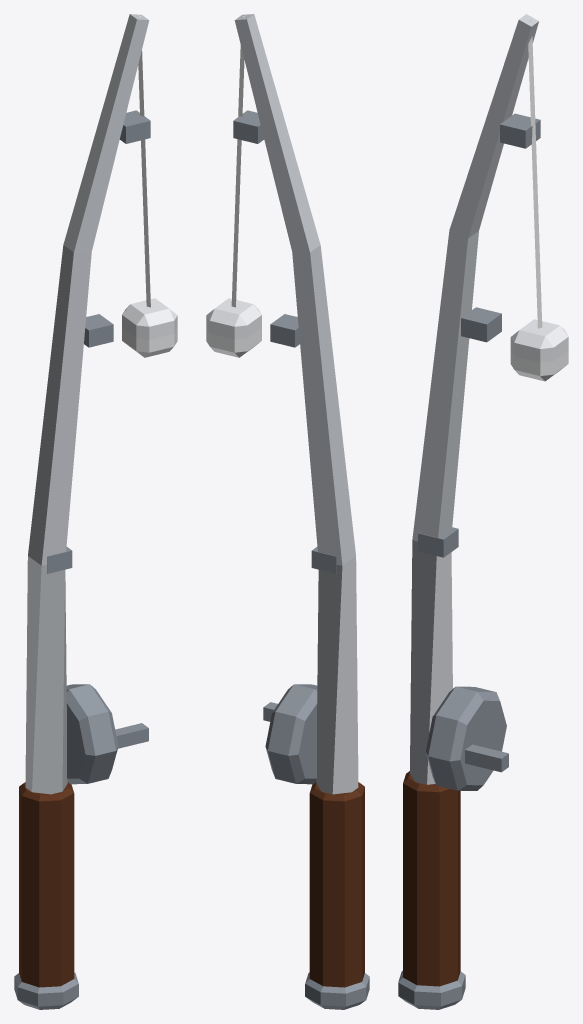
The model's file is IronFishingRod.fbx.
The picture shows the model from 3 angles, left to right: view 1: azimuth 30°, elevation 25°; view 2: azimuth 150°, elevation 25°; view 3: azimuth 330°, elevation 25°; orthographic projection. The views are drawn at different scales.
Parts seen in each view (by area): view 1: IronFishingRod; view 2: IronFishingRod; view 3: IronFishingRod.
Part boxes in pixels (left/top/right/bottom): IronFishingRod: left=14, top=14, right=177, bottom=1009; IronFishingRod: left=206, top=14, right=369, bottom=1009; IronFishingRod: left=398, top=14, right=568, bottom=1009.
Bounding box in the file's own units: 0.74 × 4.45 × 0.44.
1 material, 1 textured.
